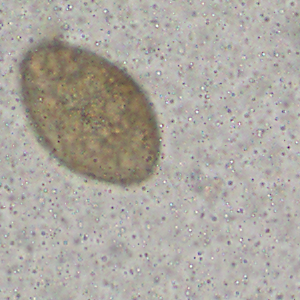Fasciola_hepatica_egg: (17, 40, 163, 188)
